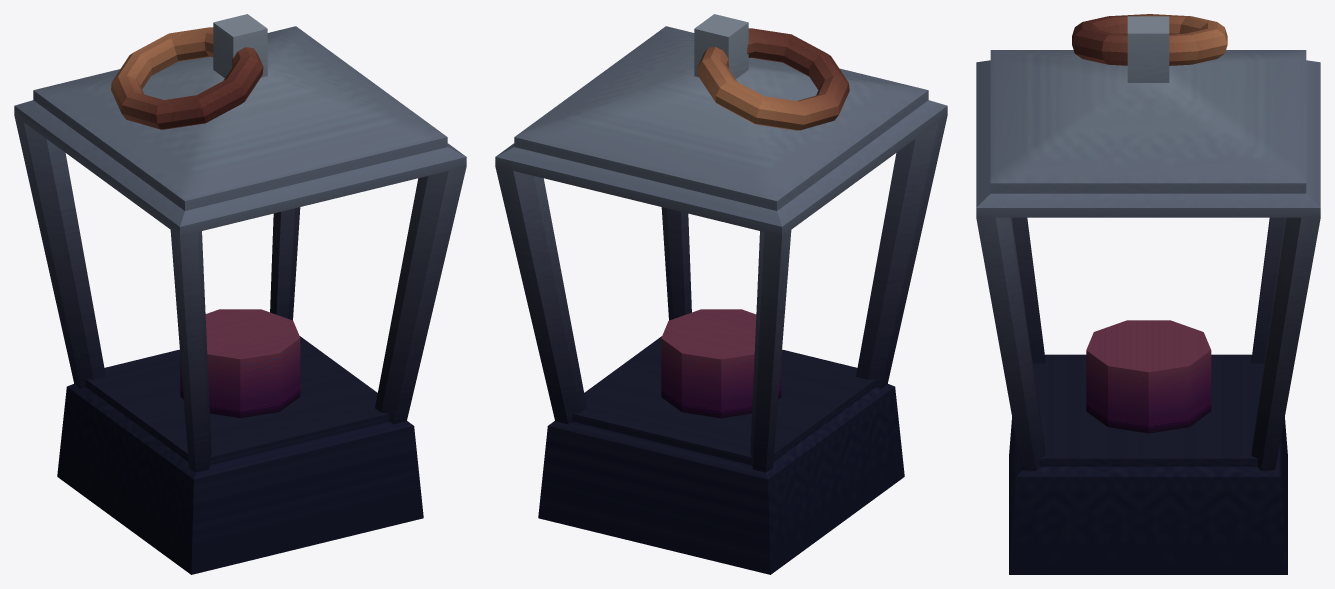
File: Lantern.fbx
The picture shows the model from 3 angles, left to right: view 1: azimuth 30°, elevation 25°; view 2: azimuth 150°, elevation 25°; view 3: azimuth 270°, elevation 25°; orthographic projection. The views are drawn at different scales.
Parts seen in each view (by area): view 1: pTorus3; view 2: pTorus3; view 3: pTorus3.
Part boxes in pixels (x1,y1,x2,y2): pTorus3: [14, 14, 466, 574]; pTorus3: [495, 14, 947, 574]; pTorus3: [976, 14, 1320, 574].
Size of the model in its own units: 5.43 by 8.54 by 5.43.
1 material, 1 textured.
